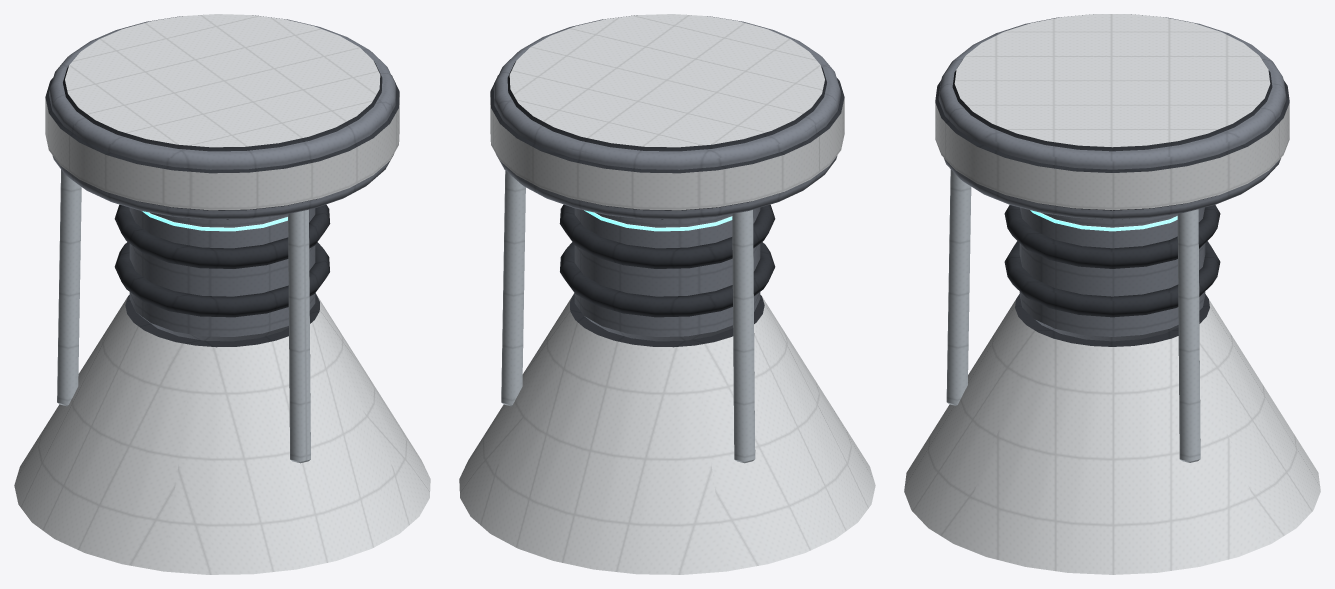
The model's file is R4X_JumpDrive.glb.
3 renders of one model, left to right at view 1: azimuth 30°, elevation 25°; view 2: azimuth 150°, elevation 25°; view 3: azimuth 270°, elevation 25°, orthographic.
Parts seen in each view (by area): view 1: R4X_JumpDrive_Body; view 2: R4X_JumpDrive_Body; view 3: R4X_JumpDrive_Body.
Part boxes in pixels (x1,y1,x2,y2): R4X_JumpDrive_Body: [14, 14, 430, 574]; R4X_JumpDrive_Body: [459, 14, 875, 574]; R4X_JumpDrive_Body: [904, 14, 1320, 574].
Size of the model in its own units: 0.4686 by 0.51 by 0.4693.
5 materials, 4 textured.
